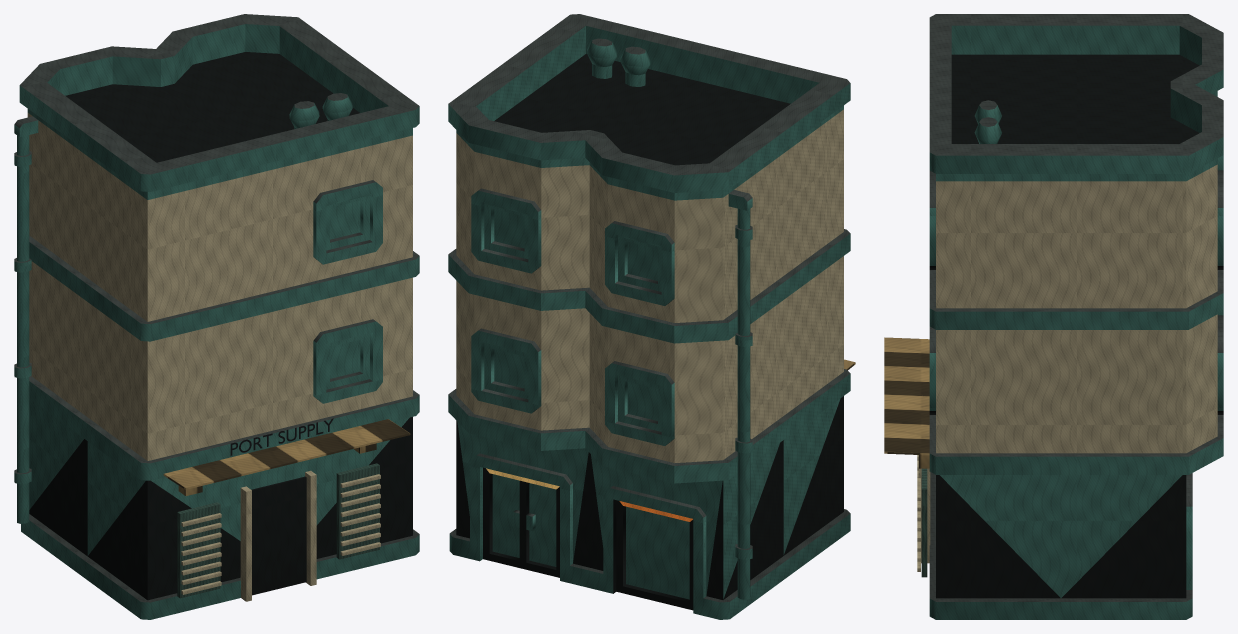
Rendered from shopfront-a.glb.
3 renders of one model, left to right at view 1: azimuth 30°, elevation 25°; view 2: azimuth 150°, elevation 25°; view 3: azimuth 270°, elevation 25°, orthographic. The views are drawn at different scales.
Visible parts, largest first — view 1: shopfront-a-original-structure, shop-recessed-entry, detail-awning, shop-shutter.001, shop-shutter, shop-door-jamb, shop-door-jamb.001, shop-sign; view 2: shopfront-a-original-structure; view 3: shopfront-a-original-structure, detail-awning, shop-shutter.001, shop-door-jamb.001.
Boxes of the visible parts, left/top/right/bottom form: shopfront-a-original-structure: left=14, top=14, right=419, bottom=619; shop-recessed-entry: left=251, top=476, right=306, bottom=595; detail-awning: left=163, top=419, right=410, bottom=495; shop-shutter.001: left=336, top=463, right=379, bottom=559; shop-shutter: left=177, top=502, right=220, bottom=598; shop-door-jamb: left=240, top=486, right=251, bottom=601; shop-door-jamb.001: left=305, top=470, right=316, bottom=585; shop-sign: left=230, top=418, right=333, bottom=455; shopfront-a-original-structure: left=448, top=14, right=850, bottom=619; shopfront-a-original-structure: left=929, top=14, right=1223, bottom=619; detail-awning: left=884, top=337, right=929, bottom=468; shop-shutter.001: left=921, top=468, right=927, bottom=577; shop-door-jamb.001: left=918, top=455, right=930, bottom=563.
Size of the model in its own units: 6 by 8.8 by 5.78.
Materials: 9 (9 with a texture image).
